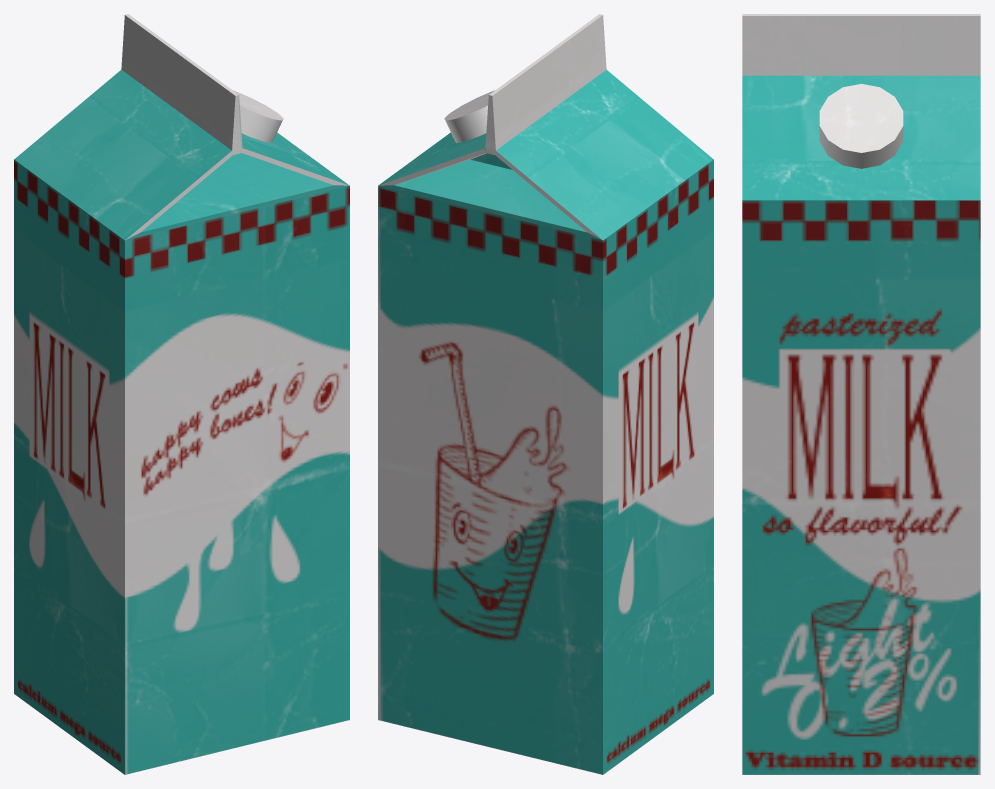
The model's file is MilkCarton_Product01.fbx.
The picture shows the model from 3 angles, left to right: view 1: azimuth 30°, elevation 25°; view 2: azimuth 150°, elevation 25°; view 3: azimuth 270°, elevation 25°; orthographic projection. The views are drawn at different scales.
Visible parts, largest first — view 1: MilkCarton_MilkCarton; view 2: MilkCarton_MilkCarton; view 3: MilkCarton_MilkCarton.
Boxes of the visible parts, x1,y1,x2,y2 form: MilkCarton_MilkCarton: (14,14,349,774); MilkCarton_MilkCarton: (378,14,713,774); MilkCarton_MilkCarton: (742,14,980,774).
Bounding box in the file's own units: 1.53 × 4.23 × 1.3.
